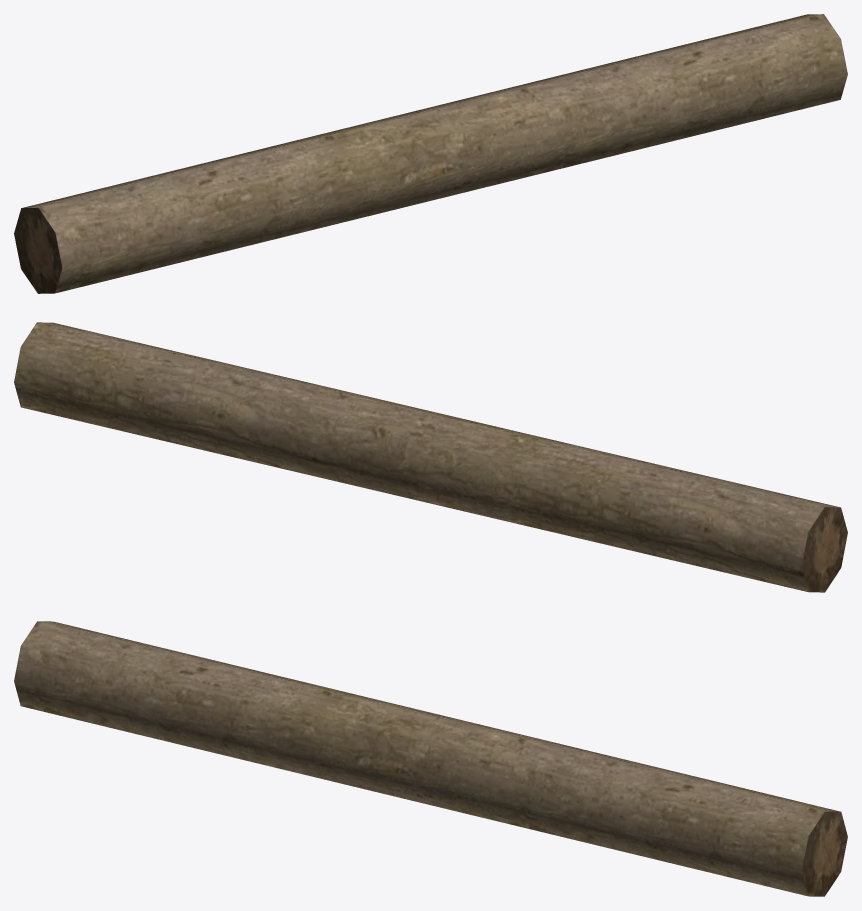
The picture shows the model from 3 angles, top to bottom: view 1: azimuth 30°, elevation 25°; view 2: azimuth 150°, elevation 25°; view 3: azimuth 330°, elevation 25°; orthographic projection.
Visible parts, largest first — view 1: SW_AS_lo; view 2: SW_AS_lo; view 3: SW_AS_lo.
Boxes of the visible parts, left/top/right/bottom form: SW_AS_lo: left=14, top=14, right=847, bottom=293; SW_AS_lo: left=14, top=322, right=847, bottom=592; SW_AS_lo: left=14, top=621, right=847, bottom=896.
Bounding box in the file's own units: 1.2 × 0.1287 × 0.1375.
Materials: 1 (1 with a texture image).
